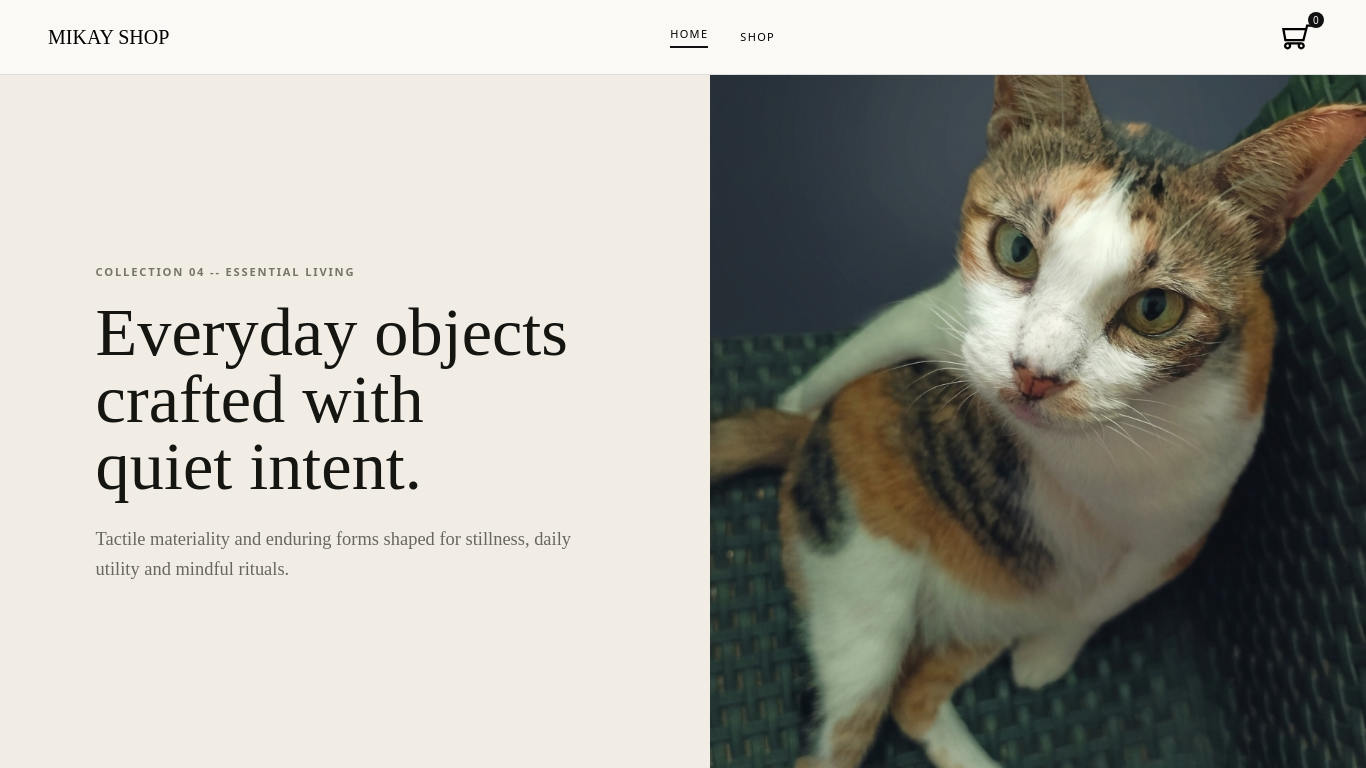
Test: Testing NavBar Navigation showing the proper pages › Routes to cartPage when clicking the cart icon in the navbar
Click the link with test id "cartLink": (1297, 37) [1282,22,1312,52]
(page scrolled)
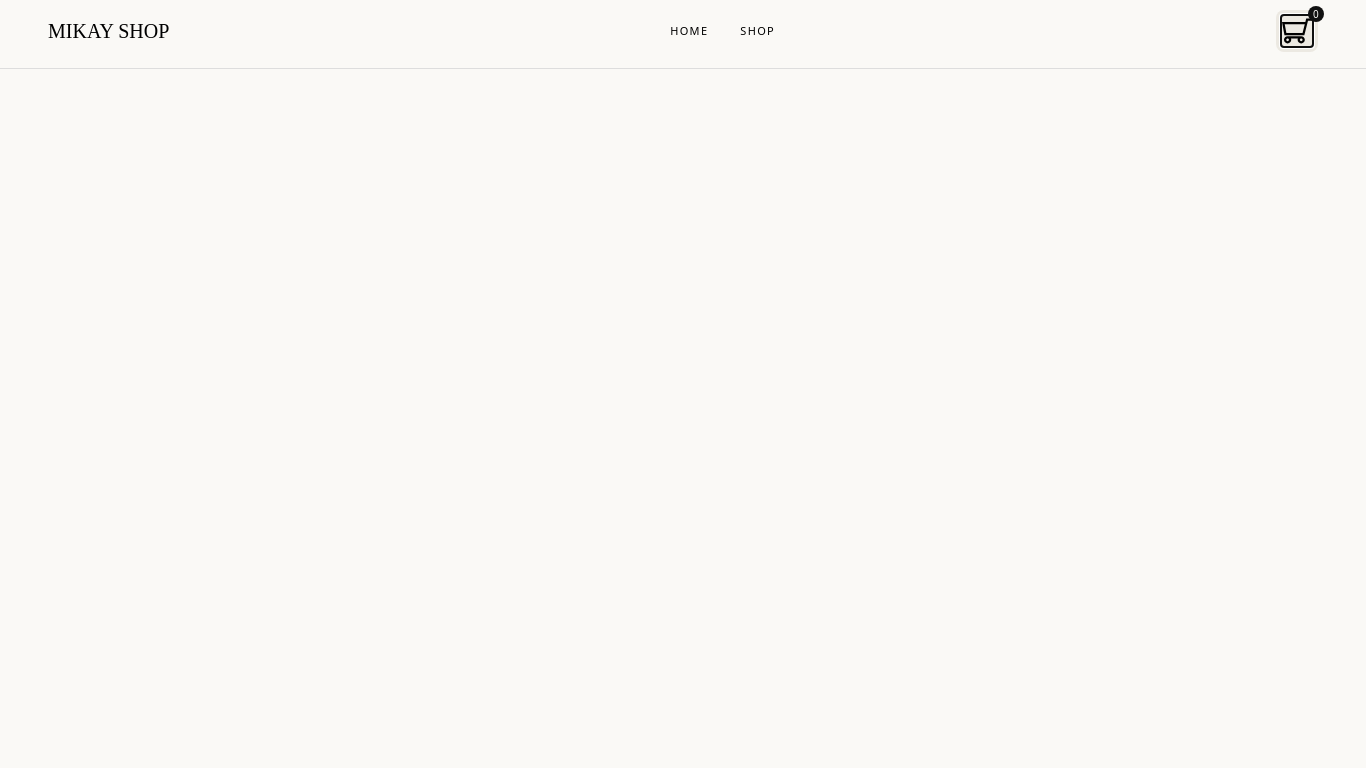
Expected: the element with test id "cartPage" is shown
